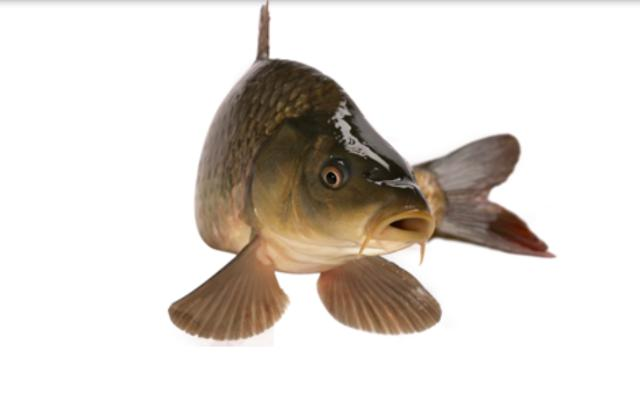Mulut: (348, 197, 448, 268)
Sirip Dada: (134, 232, 308, 376), (311, 246, 455, 346)
Sirip Ekor: (414, 125, 568, 275)
Sirip Punggung: (233, 0, 303, 91)
